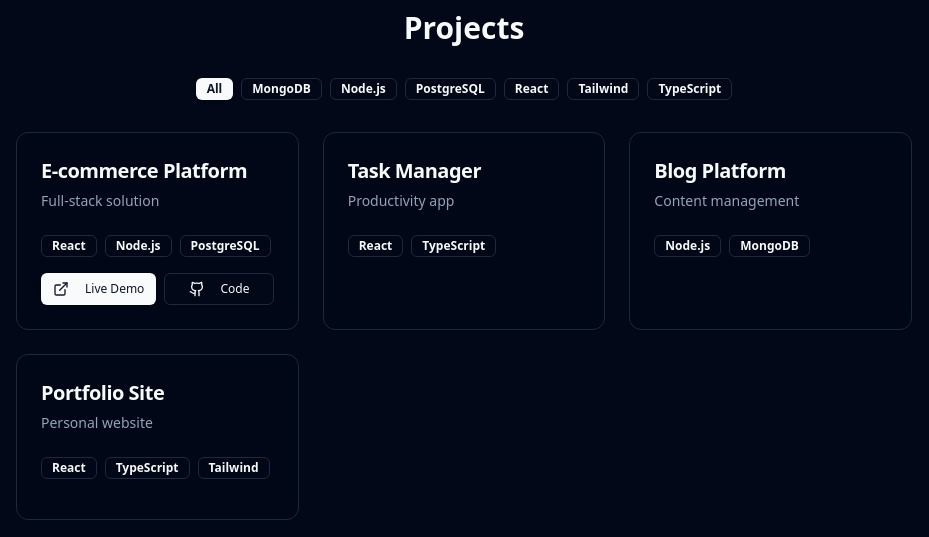
Test: Projects User Flow › shows empty state when no projects match filter
Note: Filter by a technology with no matches - use getAllByText and select the filter button (first one)
Step 1. Click the text "MongoDB" next to "All" → [282, 89], box [241,78,322,100]
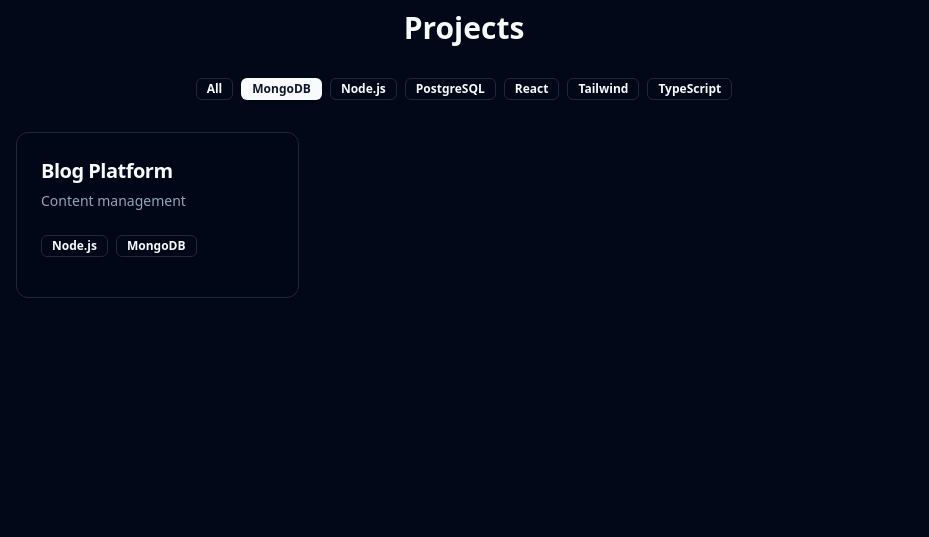
Result: the text "Blog Platform" is shown at [41,157,172,185]
Result: the text "E-commerce Platform" is gone
